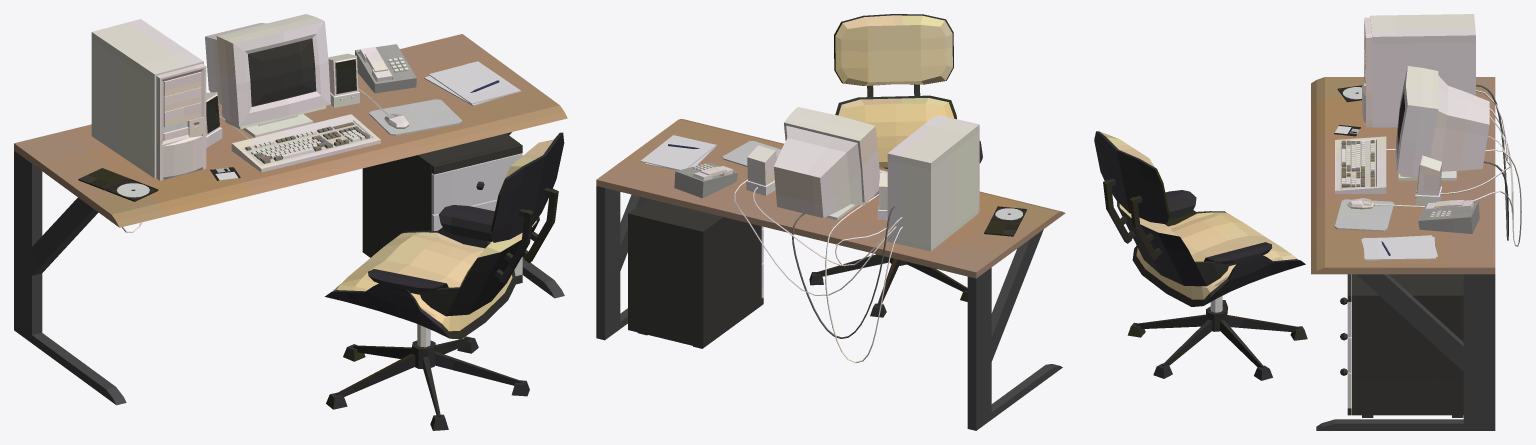
Rendered from object_computer_desk.glb.
3 renders of one model, left to right at view 1: azimuth 30°, elevation 25°; view 2: azimuth 150°, elevation 25°; view 3: azimuth 270°, elevation 25°, orthographic. The views are drawn at different scales.
Parts seen in each view (by area): view 1: Office_desk, Cube.000, Computer_case, Computer_monitor.001, Drawers, Keyboard, Paper2, Mousepad, Phone_stand, SpeakerL, CD_case, SpeakerR (+1 smaller); view 2: Office_desk, Drawers, Cube.000, Computer_case, Computer_monitor.001, Paper2, SpeakerL, Phone_stand, CD_case, Monitor_cable, KeyboardCable, Mousepad (+2 smaller); view 3: Office_desk, Cube.000, Drawers, Computer_case, Computer_monitor.001, Keyboard, Paper2, Mousepad, Phone_stand, SpeakerL, Monitor_cable, KeyboardCable (+1 smaller).
Boxes of the visible parts, x1,y1,x2,y2 form: Office_desk: [14, 34, 567, 405]; Cube.000: [325, 132, 564, 430]; Computer_case: [91, 19, 206, 180]; Computer_monitor.001: [205, 14, 330, 137]; Drawers: [362, 133, 522, 284]; Keyboard: [231, 114, 380, 172]; Paper2: [428, 61, 521, 104]; Mousepad: [369, 99, 462, 135]; Phone_stand: [355, 44, 416, 93]; SpeakerL: [328, 53, 359, 107]; CD_case: [78, 168, 158, 201]; SpeakerR: [206, 92, 222, 147]; Office_desk: [596, 119, 1065, 430]; Drawers: [628, 198, 763, 348]; Cube.000: [809, 14, 982, 317]; Computer_case: [887, 115, 979, 251]; Computer_monitor.001: [774, 107, 879, 220]; Paper2: [640, 135, 716, 170]; SpeakerL: [746, 145, 776, 195]; Phone_stand: [674, 162, 737, 198]; CD_case: [984, 206, 1026, 236]; Monitor_cable: [792, 206, 894, 338]; KeyboardCable: [825, 194, 902, 362]; Mousepad: [722, 141, 781, 166]; Office_desk: [1311, 77, 1495, 430]; Cube.000: [1094, 131, 1307, 380]; Drawers: [1340, 274, 1463, 417]; Computer_case: [1362, 14, 1475, 127]; Computer_monitor.001: [1395, 66, 1489, 180]; Keyboard: [1335, 136, 1386, 193]; Paper2: [1363, 237, 1435, 259]; Mousepad: [1334, 199, 1394, 231]; Phone_stand: [1418, 201, 1479, 233]; SpeakerL: [1415, 155, 1442, 205]; Monitor_cable: [1476, 84, 1508, 240]; KeyboardCable: [1386, 108, 1521, 246].
Bounding box in the file's own units: 188 × 116 × 178.
Materials: 2 (2 with a texture image).
